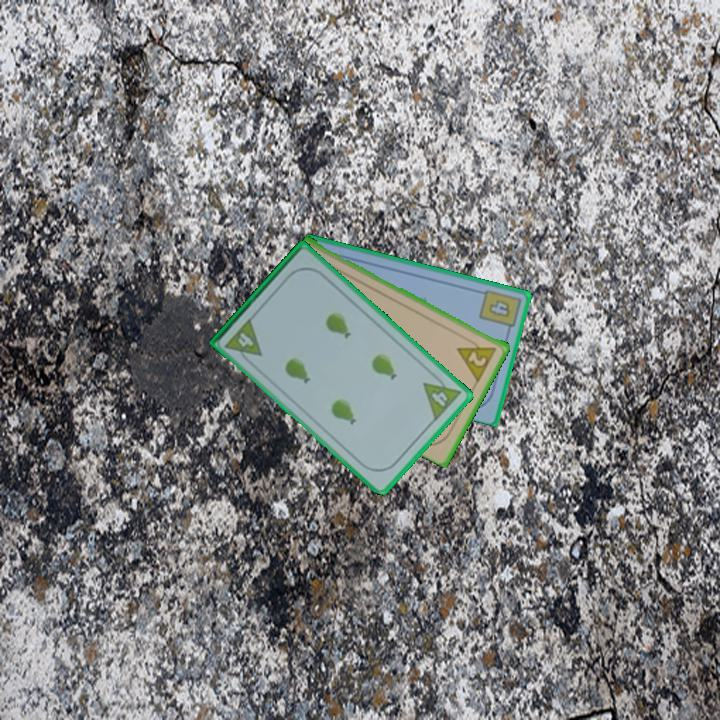2p: (454, 334, 500, 383)
4b: (476, 286, 524, 336)
4p: (419, 369, 464, 424), (221, 315, 265, 368)
